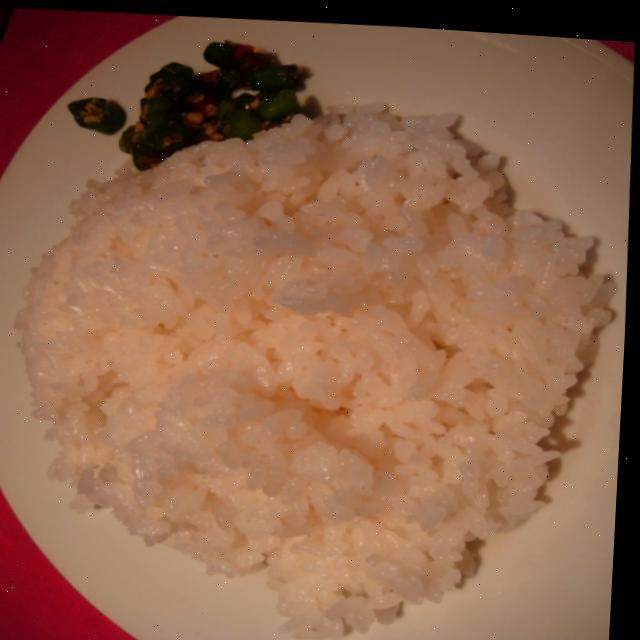米饭主食: (12, 97, 611, 600)
